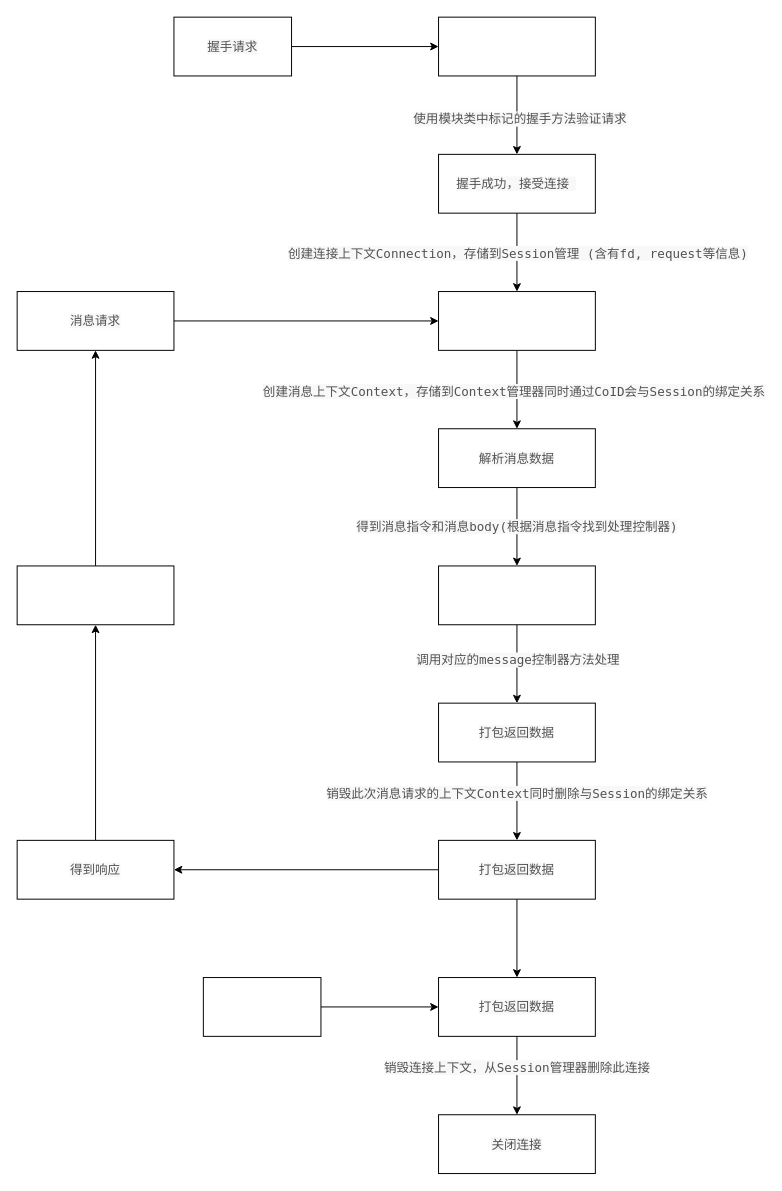
Some shapes in this 782 by 1191 pixel diagram are drawn without their labels. Here are the shapes that lost their labels. From the top down, the centre of each, then its label:
(516,46): 接收到WebSocket请求 (根据path找到处理模块)
(516,320): 接收消息
(95,595): 消息处理流程
(516,595): 调度消息处理
(261,1006): 断开连接
